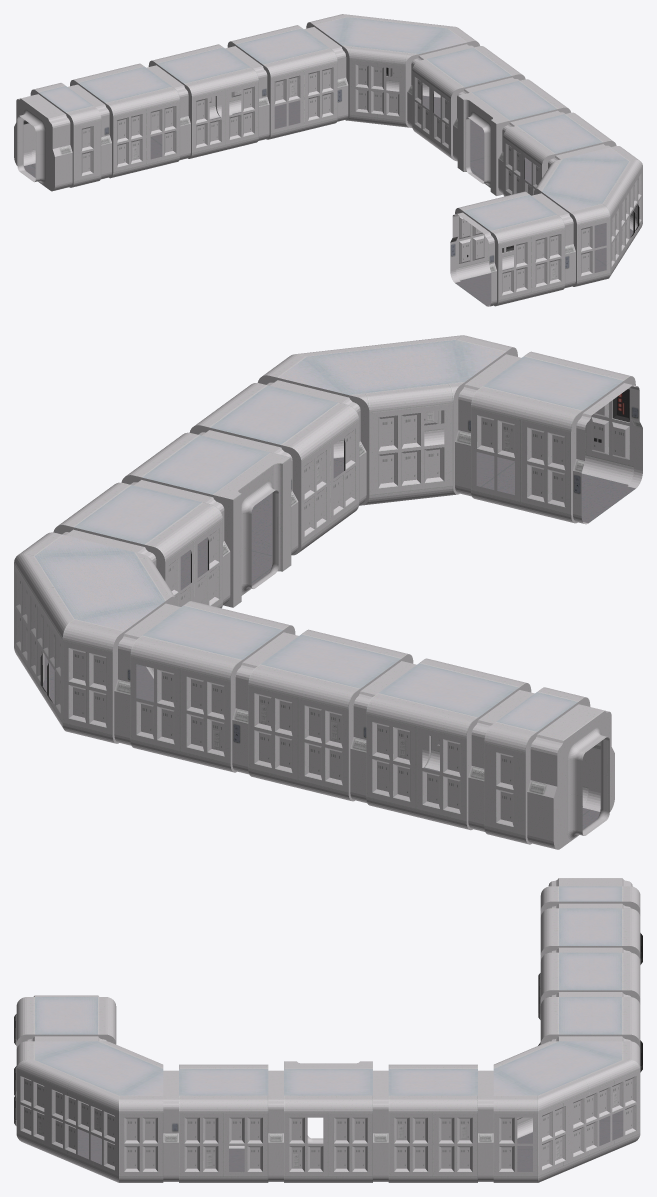
The model's file is thm_spc_corvette_dungeon_r36_hall36_mesh_r36.fbx.
3 views of the same model, one above another, from view 1: azimuth 30°, elevation 25°; view 2: azimuth 150°, elevation 25°; view 3: azimuth 270°, elevation 25° (orthographic). The views are drawn at different scales.
Parts seen in each view (by area): view 1: mesh_node; view 2: mesh_node; view 3: mesh_node.
Boxes of the visible parts, <box> form: mesh_node: <box>14,14,642,306</box>; mesh_node: <box>14,335,642,849</box>; mesh_node: <box>14,878,642,1182</box>.
Size of the model in its own units: 21 by 3.5 by 24.
